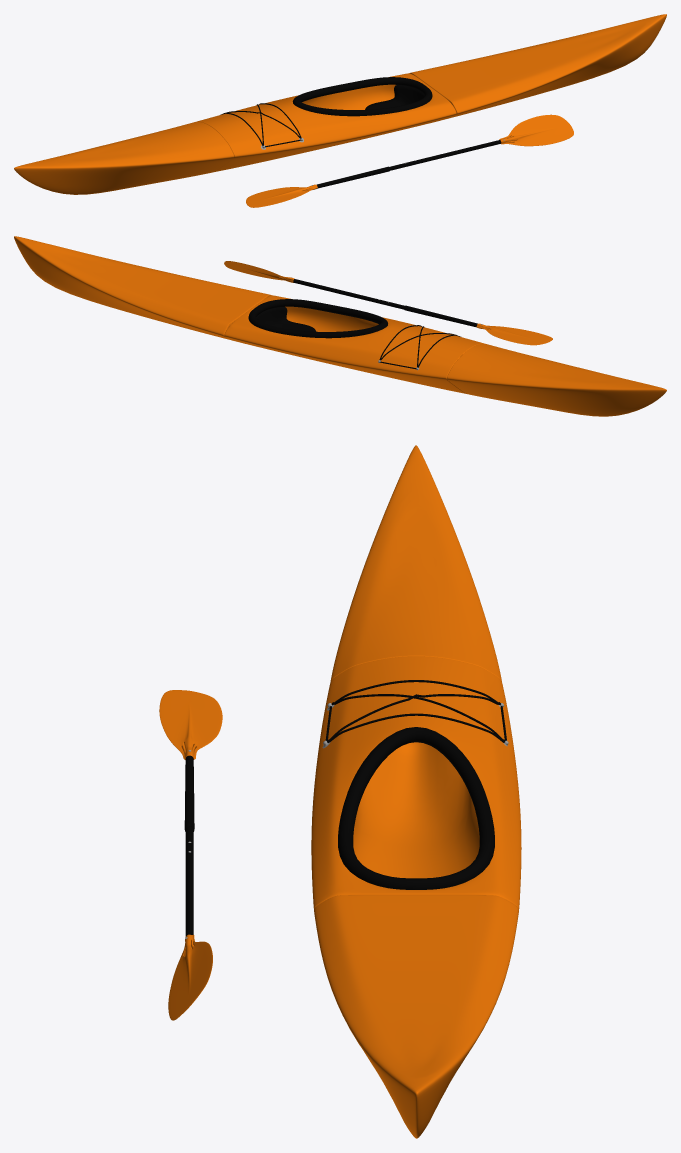
Rendered from kayak.glb.
The picture shows the model from 3 angles, top to bottom: view 1: azimuth 30°, elevation 25°; view 2: azimuth 150°, elevation 25°; view 3: azimuth 270°, elevation 25°; orthographic projection. The views are drawn at different scales.
Parts seen in each view (by area): view 1: Kayak_4, Paddle_5, Padding_3, Kayak.001_2, Elastic_1; view 2: Kayak_4, Paddle_5, Padding_3, Kayak.001_2, Elastic_1; view 3: Kayak_4, Paddle_5, Padding_3, Elastic_1.
Part boxes in pixels (x1=…): Kayak_4: x1=14, y1=14, x2=666, y2=194; Paddle_5: x1=246, y1=114, x2=573, y2=207; Padding_3: x1=292, y1=77, x2=432, y2=116; Kayak.001_2: x1=365, y1=85, x2=424, y2=109; Elastic_1: x1=221, y1=103, x2=301, y2=147; Kayak_4: x1=14, y1=236, x2=666, y2=416; Paddle_5: x1=224, y1=261, x2=552, y2=345; Padding_3: x1=248, y1=299, x2=387, y2=338; Kayak.001_2: x1=256, y1=307, x2=315, y2=331; Elastic_1: x1=379, y1=325, x2=459, y2=369; Kayak_4: x1=311, y1=445, x2=521, y2=1138; Paddle_5: x1=159, y1=690, x2=222, y2=1020; Padding_3: x1=338, y1=727, x2=494, y2=889; Elastic_1: x1=325, y1=680, x2=506, y2=742.
Size of what is drawn, in the model's own units: 2.21 by 0.1824 by 0.5299.
